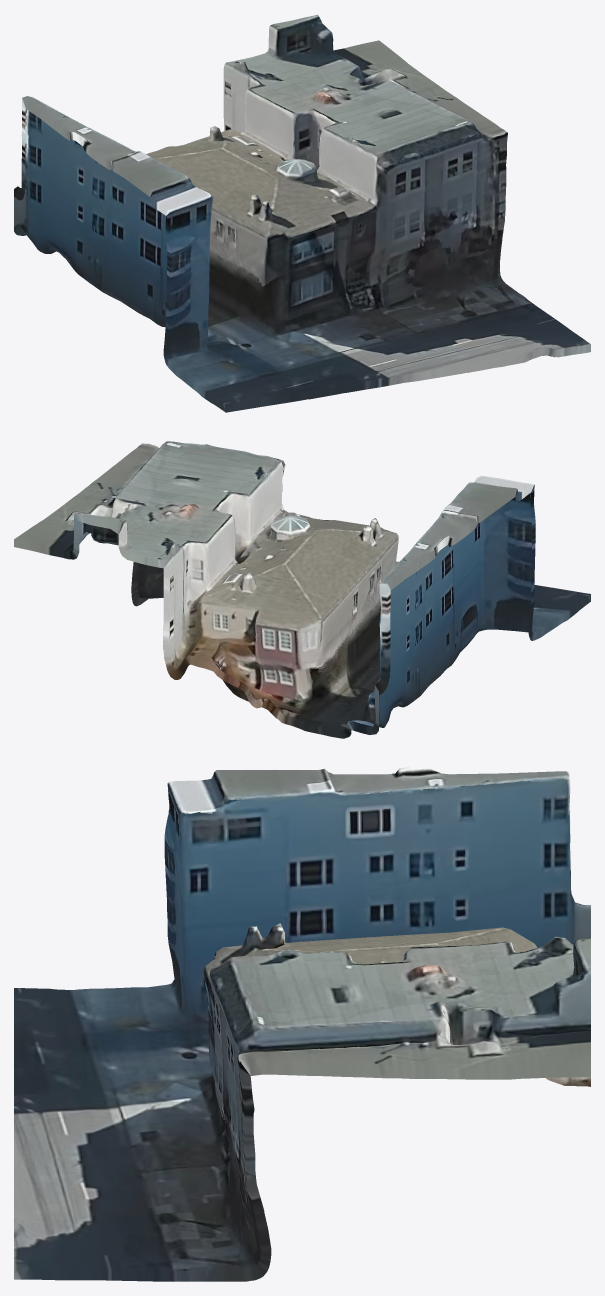
File: z20-167719-405197-h0-yup-uvflip-v3-world.glb
The picture shows the model from 3 angles, top to bottom: view 1: azimuth 30°, elevation 25°; view 2: azimuth 150°, elevation 25°; view 3: azimuth 270°, elevation 25°; orthographic projection. The views are drawn at different scales.
Bounding box in the file's own units: 30.16 × 15.8 × 30.32.
Materials: 1 (1 with a texture image).
